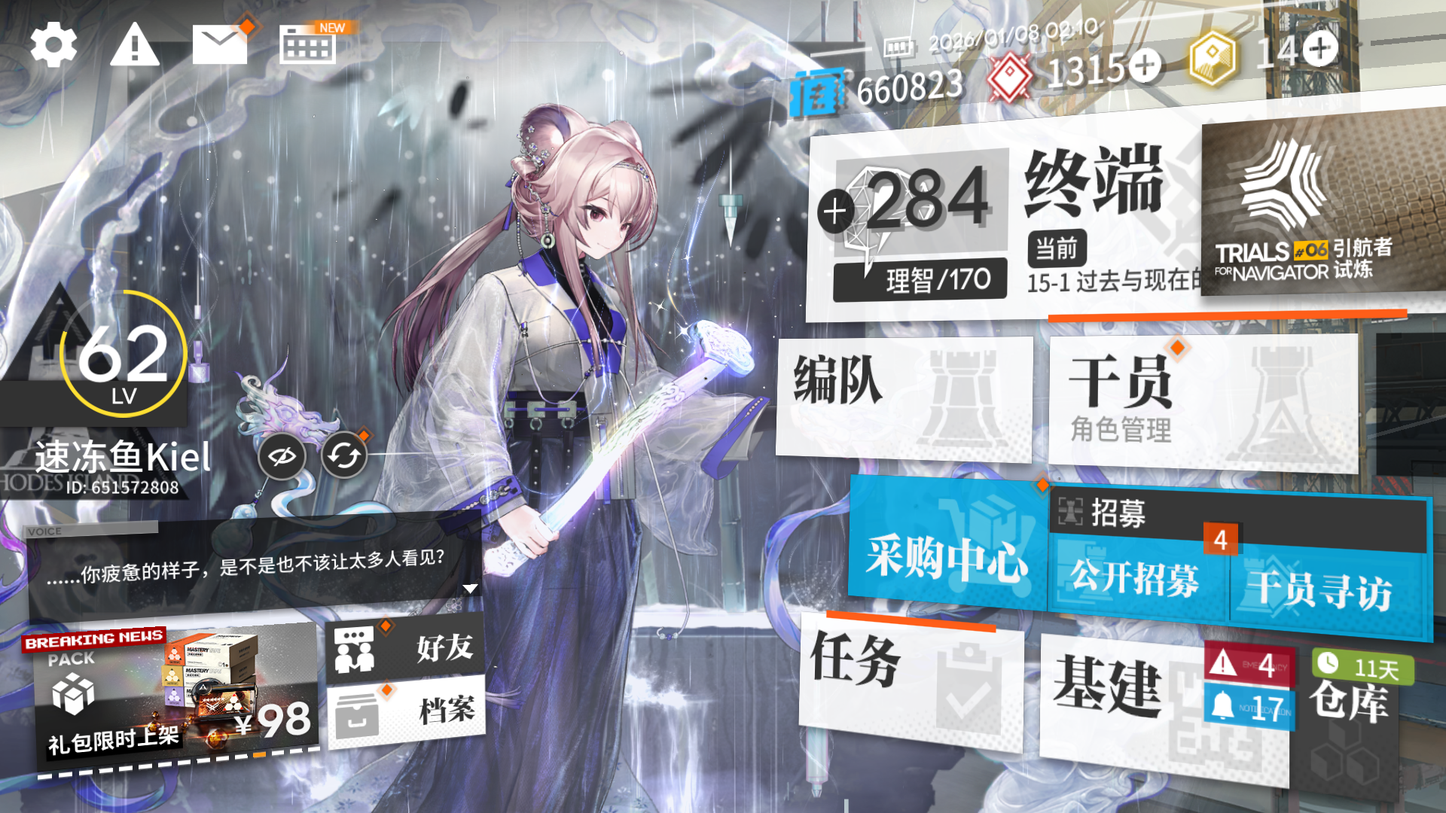home_button: (1002, 130, 1188, 233)
infrastructure_button: (1055, 644, 1260, 763)
